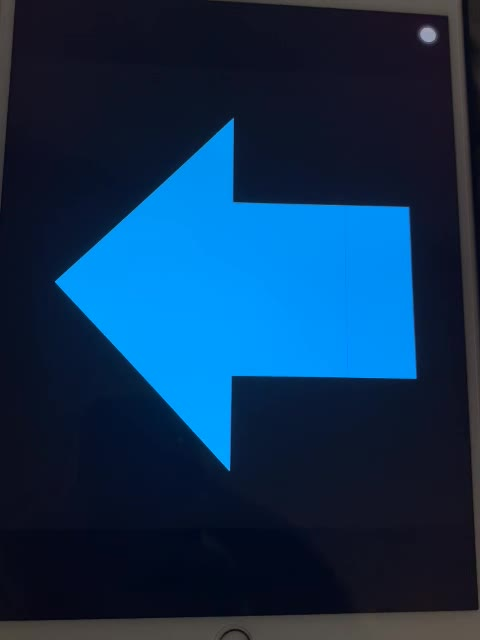left: (49, 101, 426, 478)
